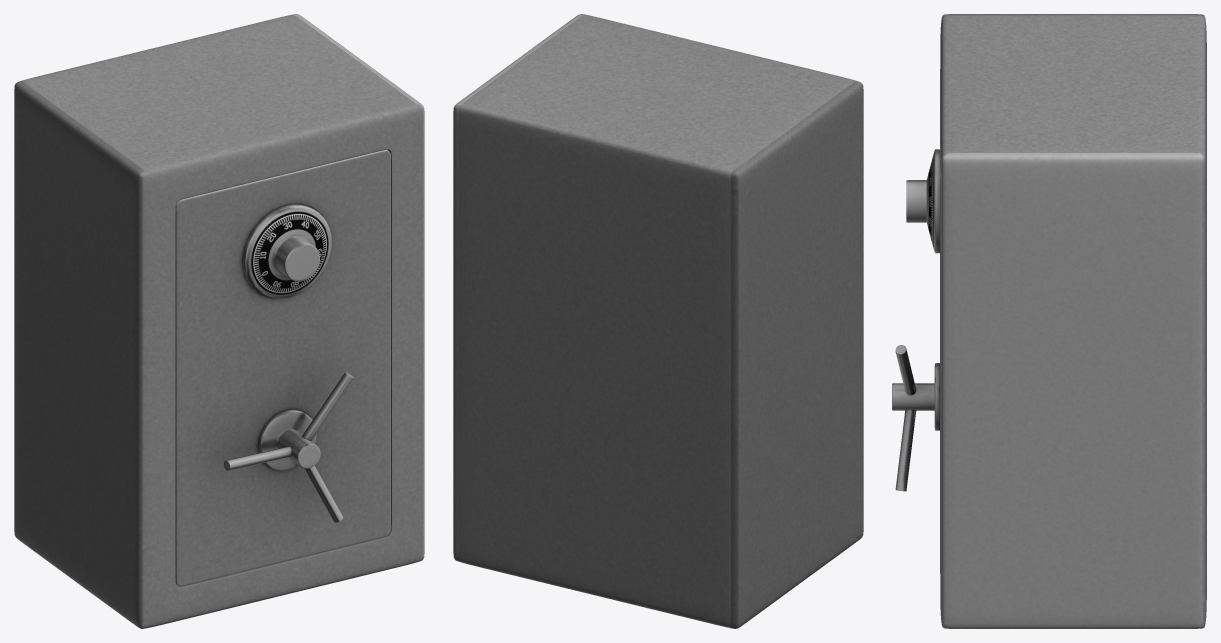
File: safe.glb
3 renders of one model, left to right at view 1: azimuth 30°, elevation 25°; view 2: azimuth 150°, elevation 25°; view 3: azimuth 270°, elevation 25°, orthographic. The views are drawn at different scales.
Parts seen in each view (by area): view 1: safe_base, safe_door, safe_handle; view 2: safe_base; view 3: safe_base, safe_handle, safe_door.
Part boxes in pixels (x1,y1,x2,y2): safe_base: (14,14,424,628); safe_door: (175,149,390,586); safe_handle: (224,372,353,522); safe_base: (453,14,863,628); safe_base: (940,14,1206,628); safe_handle: (892,345,939,491); safe_door: (906,69,940,573).
Bounding box in the file's own units: 0.3605 × 0.5498 × 0.3298.
1 material, 1 textured.
